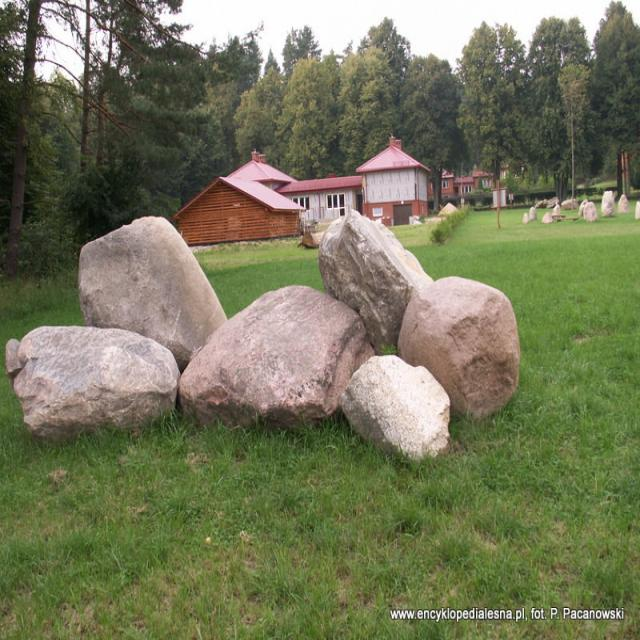grass: (0, 210, 639, 639), (196, 241, 322, 316)
stone: (178, 286, 374, 428), (78, 217, 226, 372), (6, 326, 179, 439), (397, 276, 520, 418), (318, 210, 432, 353), (342, 355, 450, 459)
